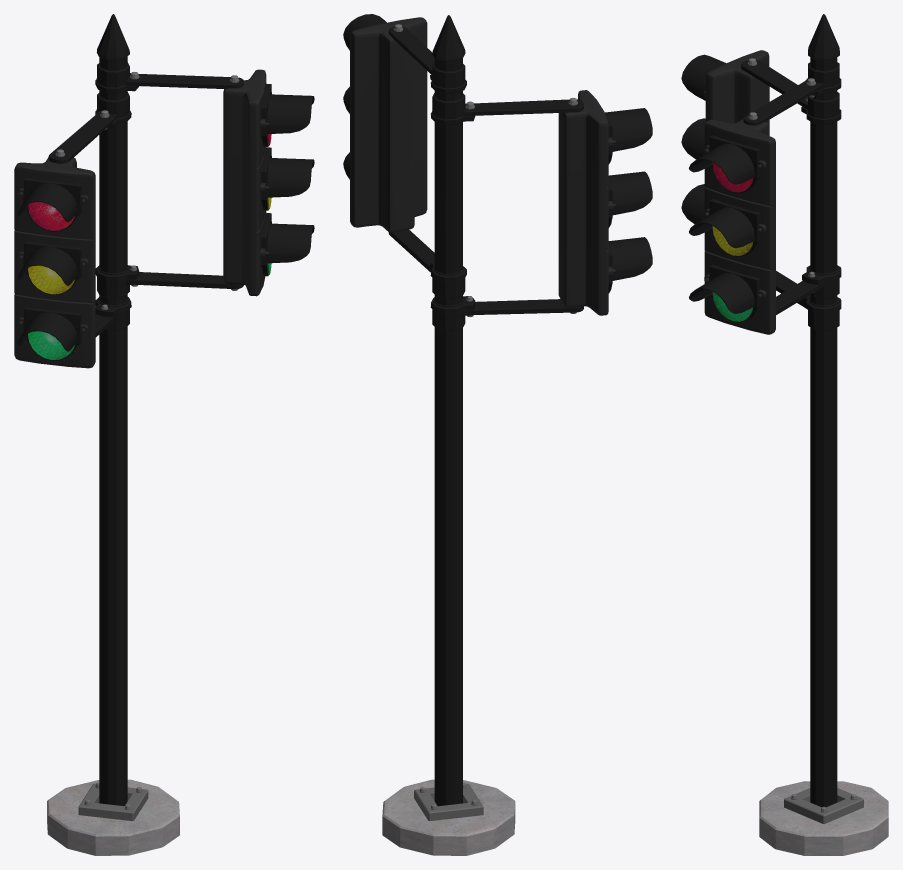
Rendered from traffic_lights.fbx.
3 renders of one model, left to right at view 1: azimuth 30°, elevation 25°; view 2: azimuth 150°, elevation 25°; view 3: azimuth 270°, elevation 25°, orthographic.
Parts seen in each view (by area): view 1: traffic_lights_all_combined_uvs_mesh_combine_result; view 2: traffic_lights_all_combined_uvs_mesh_combine_result; view 3: traffic_lights_all_combined_uvs_mesh_combine_result.
Boxes of the visible parts, bbox=[...] form: traffic_lights_all_combined_uvs_mesh_combine_result: bbox=[14, 14, 314, 855]; traffic_lights_all_combined_uvs_mesh_combine_result: bbox=[343, 14, 652, 855]; traffic_lights_all_combined_uvs_mesh_combine_result: bbox=[681, 14, 888, 855].
Size of the model in its own units: 6.1 by 15.65 by 3.61.
5 materials, 3 textured.
